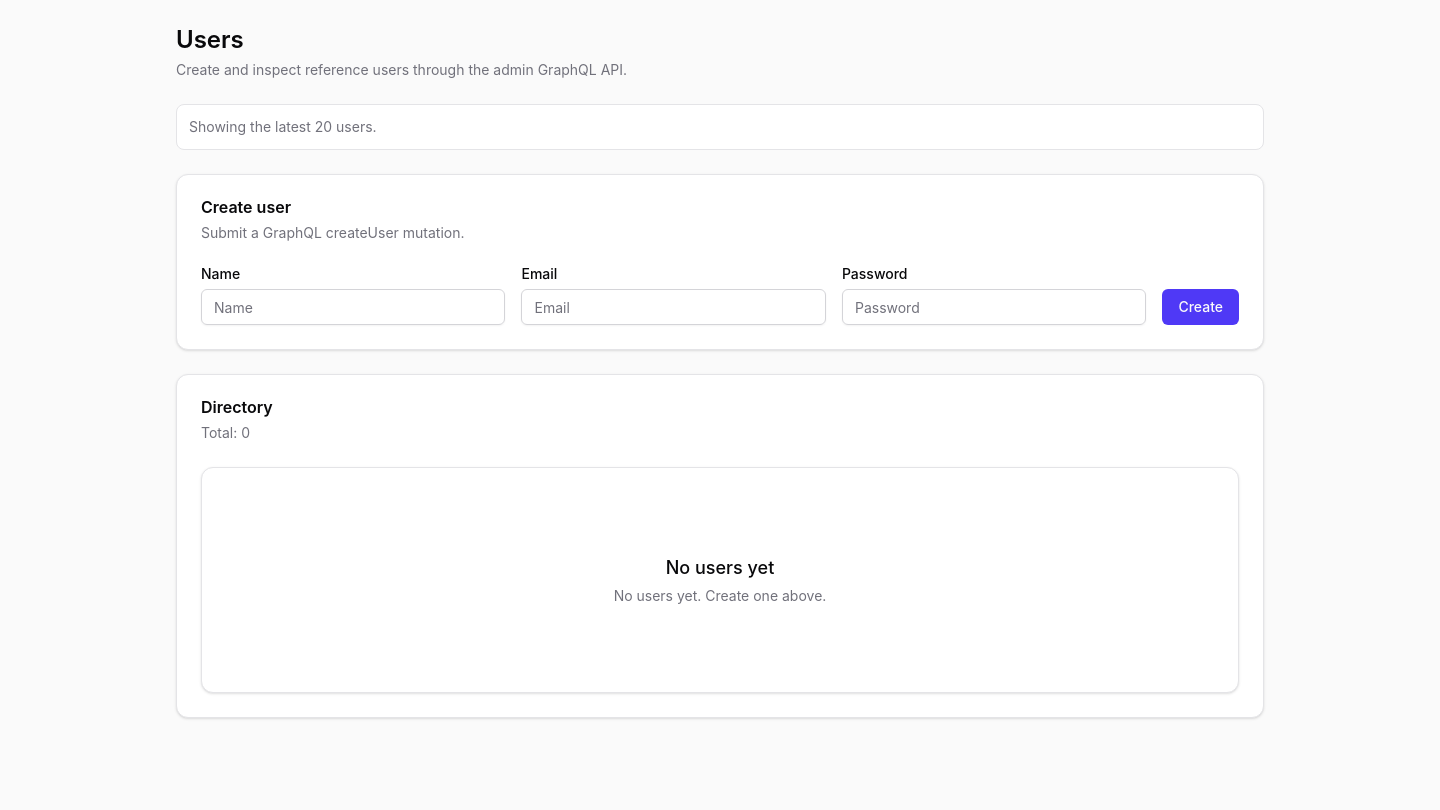
it: UsersPage › shows non-field createUser result errors
Expected: the text "No users yet. Create one above." is shown, top-left (614, 586), bottom-right (826, 606)
In the field with placeholder "Name": [353, 307] box top-left (201, 289), bottom-right (506, 325), type "Created User"
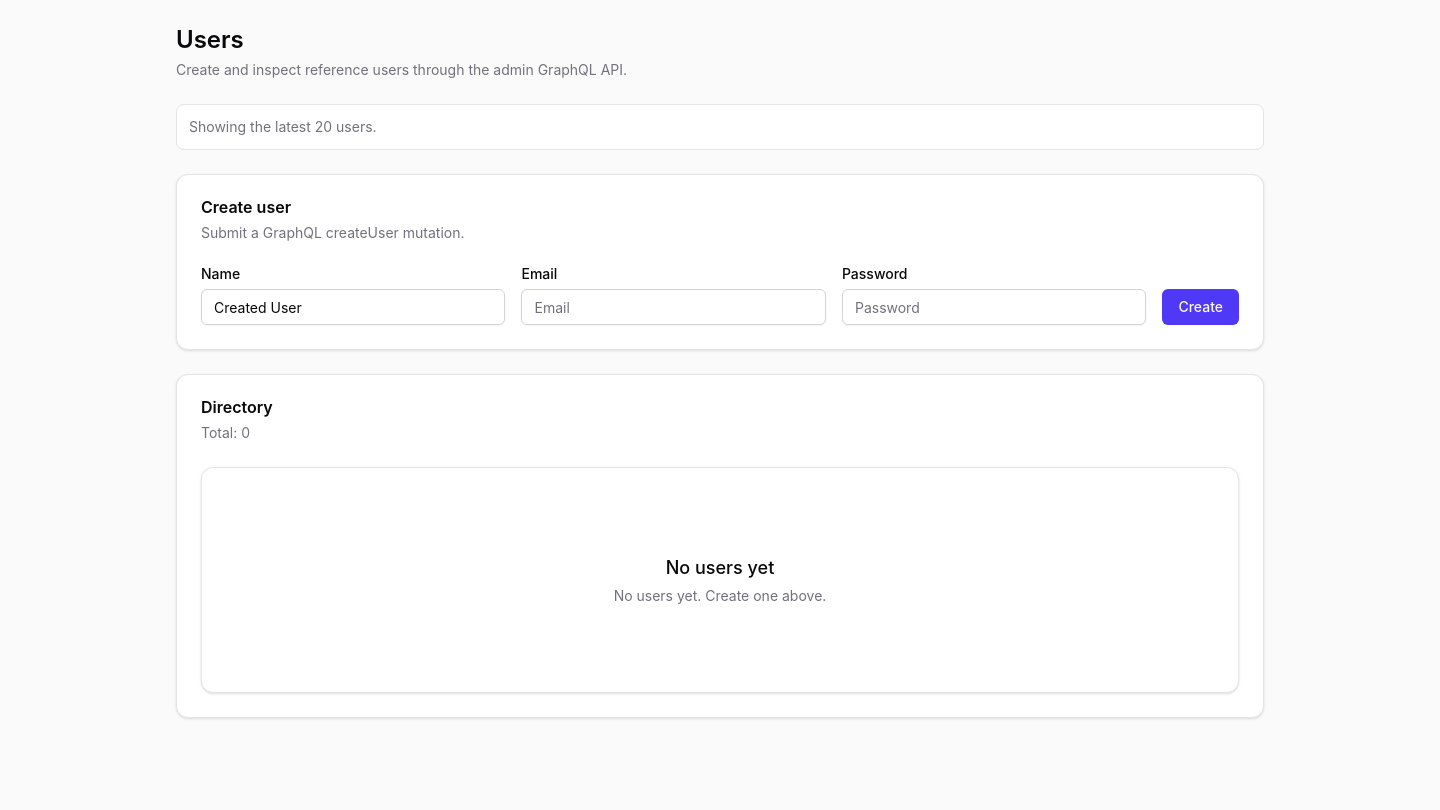
In the field with placeholder "Email": [674, 307] box top-left (522, 289), bottom-right (826, 325), type "created@example.com"
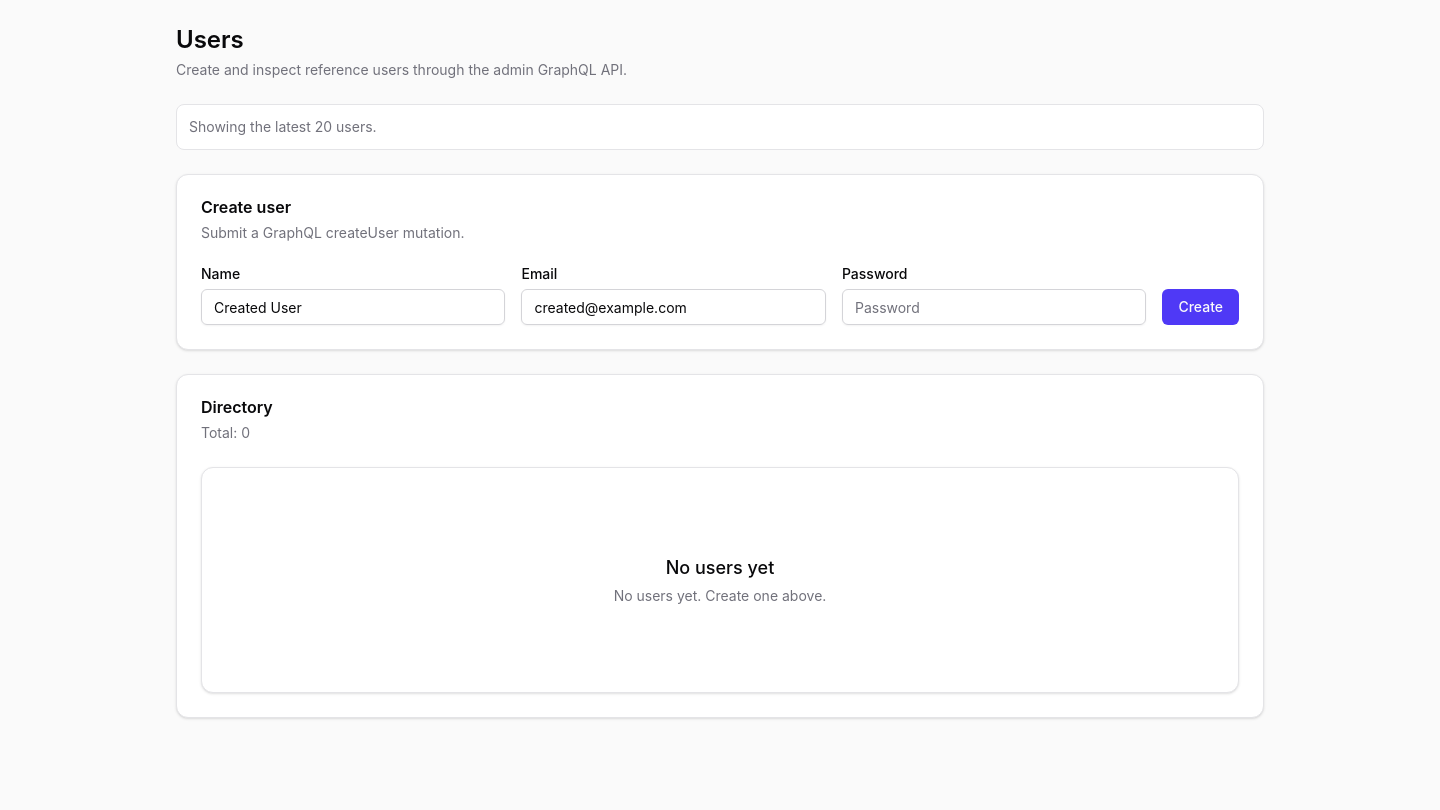
In the password field with placeholder "Password": [994, 307] box top-left (842, 289), bottom-right (1146, 325), type "Password123!"
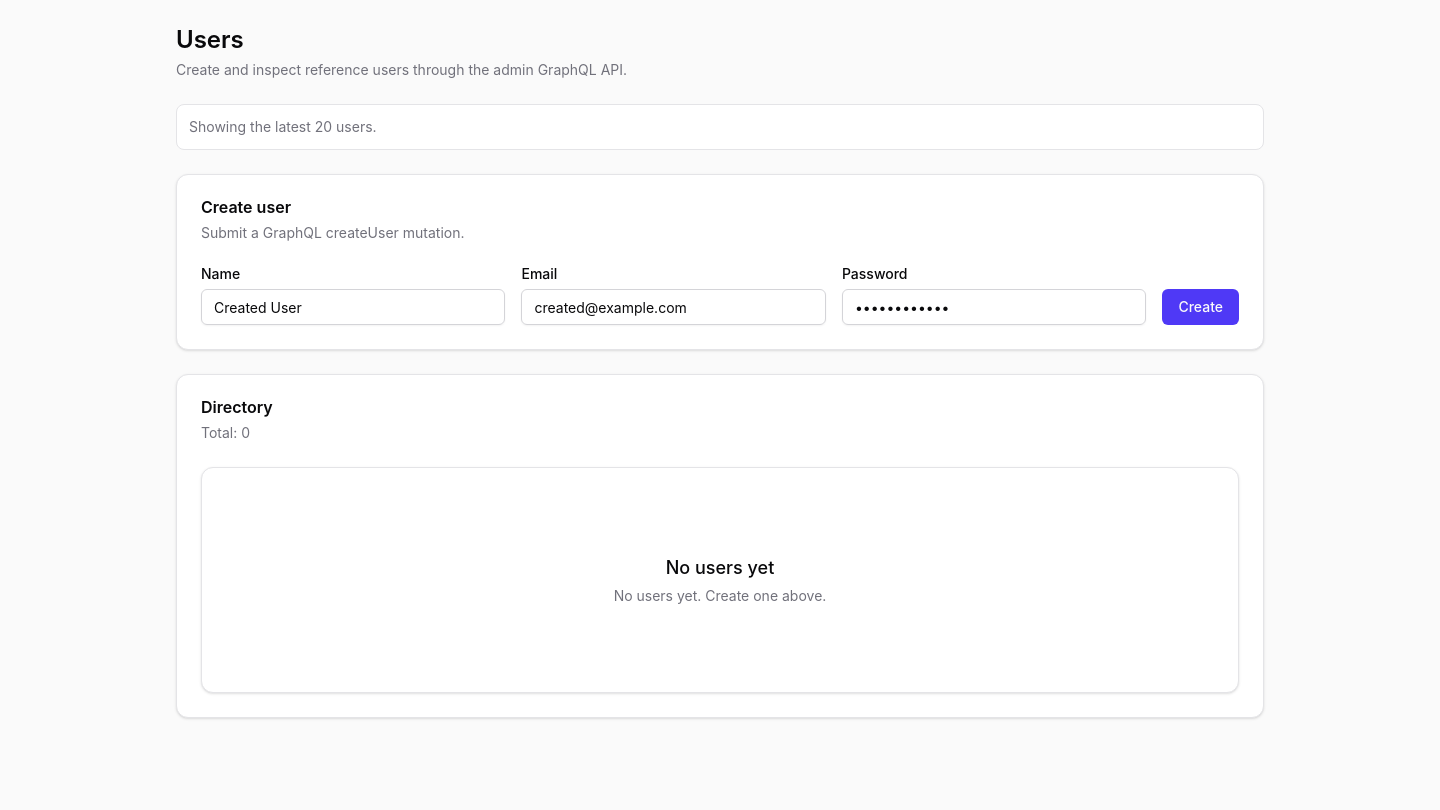
Click the button "Create": [1201, 307] box top-left (1162, 289), bottom-right (1239, 325)
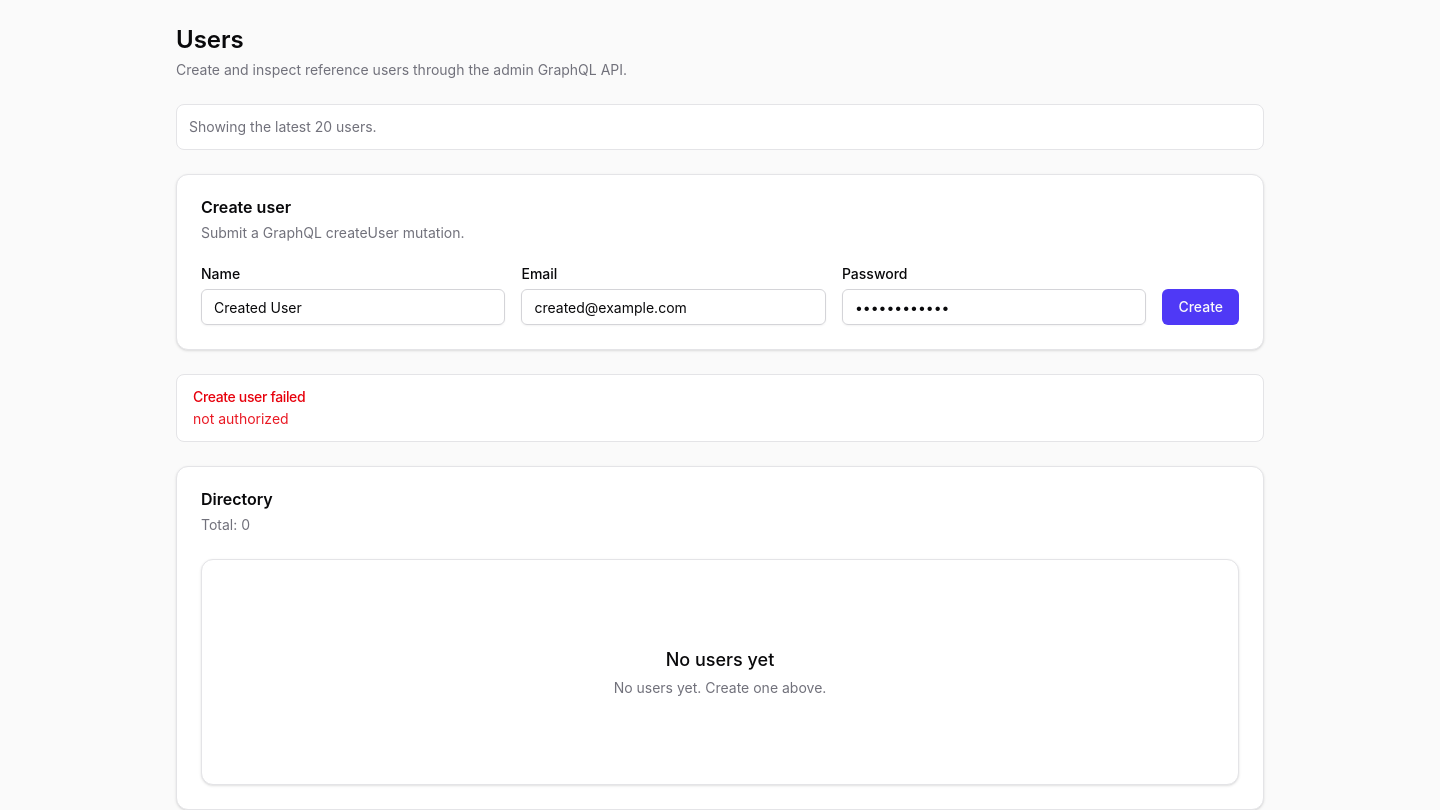
Expected: the text "not authorized" is shown, top-left (193, 410), bottom-right (289, 427)
